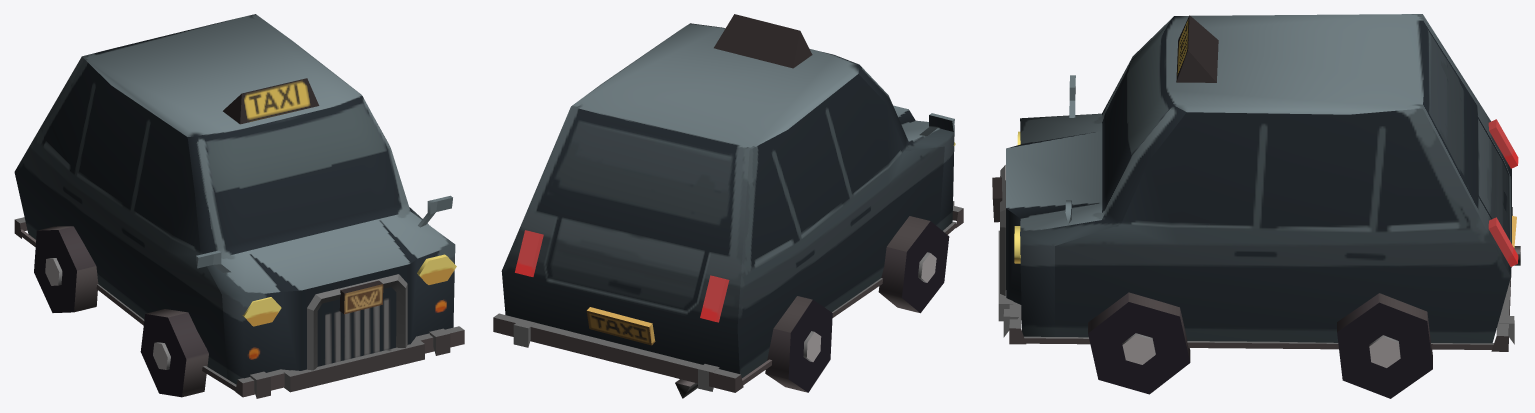
The model's file is TAXICAB.FBX.
The picture shows the model from 3 angles, left to right: view 1: azimuth 30°, elevation 25°; view 2: azimuth 150°, elevation 25°; view 3: azimuth 270°, elevation 25°; orthographic projection. The views are drawn at different scales.
Parts seen in each view (by area): view 1: body, Cylinder007, Object002; view 2: body, Cylinder007, Object002; view 3: body, Cylinder007, Object002.
Boxes of the visible parts, x1,y1,x2,y2 form: body: (14, 14, 464, 398); Cylinder007: (140, 309, 208, 397); Object002: (34, 226, 98, 312); body: (493, 14, 963, 398); Cylinder007: (878, 216, 949, 313); Object002: (765, 296, 832, 392); body: (992, 14, 1520, 351); Cylinder007: (1088, 292, 1190, 394); Object002: (1337, 293, 1432, 398).
Size of the model in its own units: 14.1 by 12.93 by 21.12.
